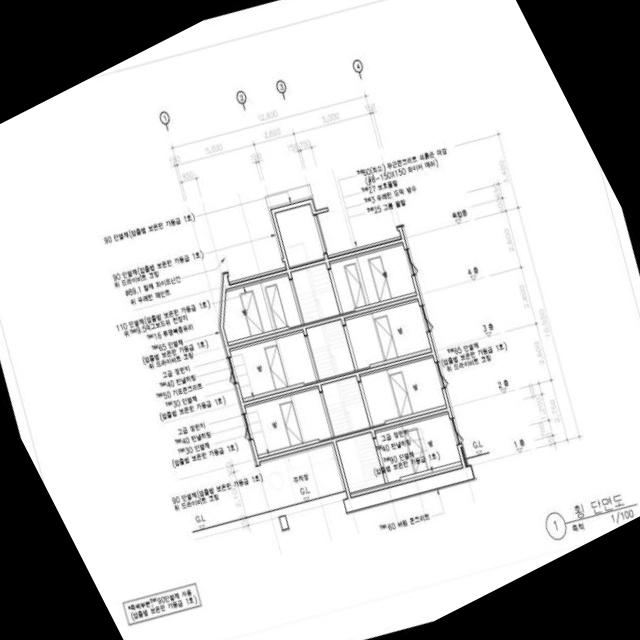background: (0, 0, 640, 640)
space_bedroom: (374, 412, 462, 486), (359, 355, 446, 427), (244, 386, 331, 458), (329, 242, 415, 314), (229, 330, 316, 401), (344, 299, 431, 370), (223, 273, 301, 345)
space_staircase: (275, 204, 324, 268), (336, 432, 385, 494), (291, 263, 339, 325), (321, 376, 369, 438), (306, 320, 354, 381)
